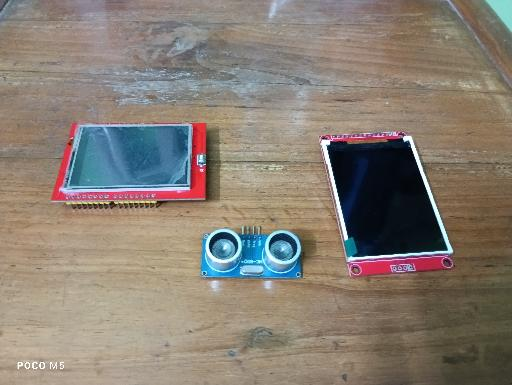Display: (319, 131, 455, 277), (52, 122, 207, 210)
sensor: (202, 225, 303, 280)
